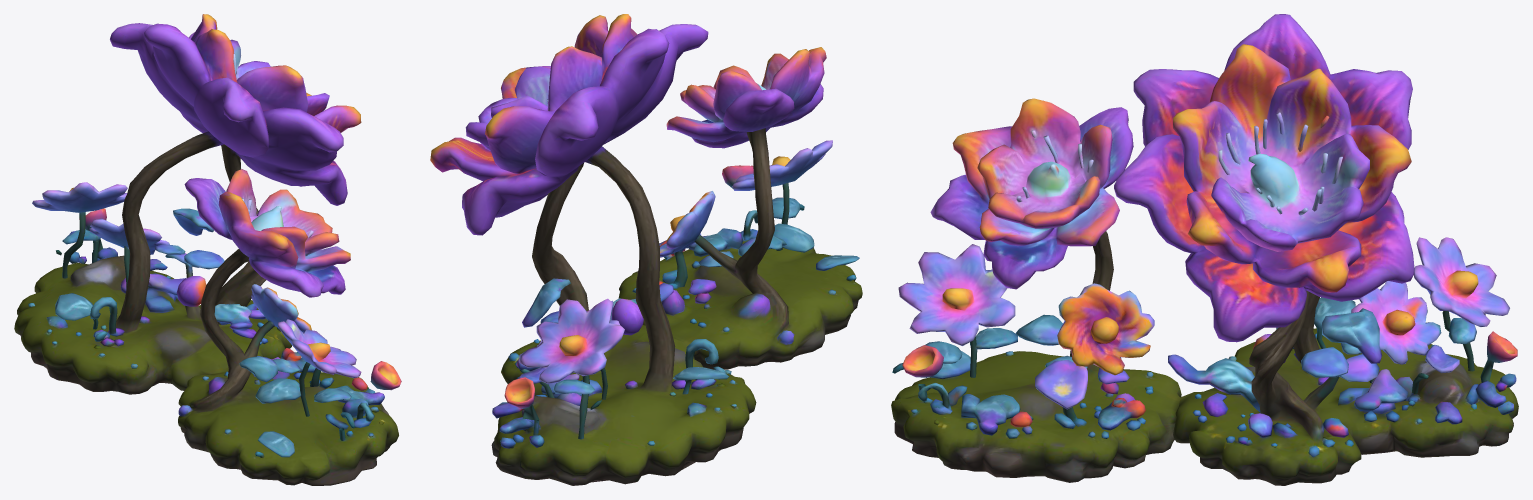
The model's file is flower.glb.
3 views of the same model, side by side, from view 1: azimuth 30°, elevation 25°; view 2: azimuth 150°, elevation 25°; view 3: azimuth 270°, elevation 25° (orthographic). The views are drawn at different scales.
Visible parts, largest first — view 1: tripo_node_e7b8c3eb-be08-4686-a14f-5ec71bcc6d18; view 2: tripo_node_e7b8c3eb-be08-4686-a14f-5ec71bcc6d18; view 3: tripo_node_e7b8c3eb-be08-4686-a14f-5ec71bcc6d18.
Part boxes in pixels (bbox=[...]): tripo_node_e7b8c3eb-be08-4686-a14f-5ec71bcc6d18: bbox=[14, 14, 401, 485]; tripo_node_e7b8c3eb-be08-4686-a14f-5ec71bcc6d18: bbox=[430, 14, 862, 485]; tripo_node_e7b8c3eb-be08-4686-a14f-5ec71bcc6d18: bbox=[891, 14, 1518, 485].
Size of the model in its own units: 0.6067 by 0.7065 by 0.998.
1 material, 1 textured.
